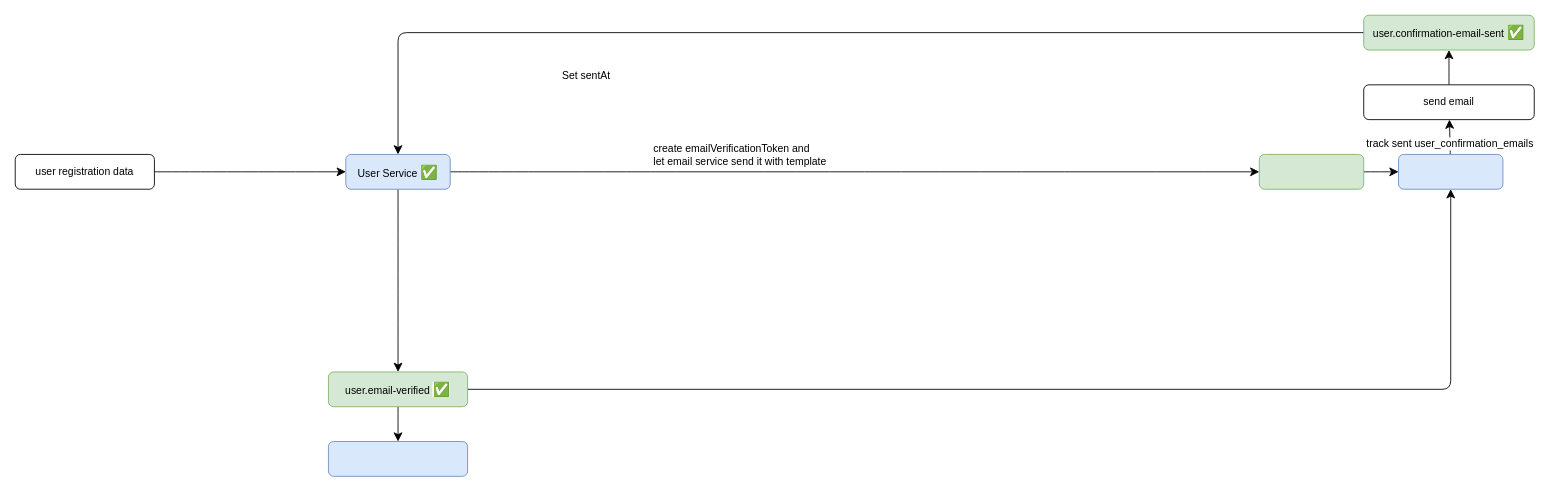
Image size: 1549x492. Some labels were removed from this diagram. Each missing label, with the centre of its shape:
Email Service ✅: [1450,171]
Issue Tracker Service: [398,458]
user.registered ✅: [1311,171]
